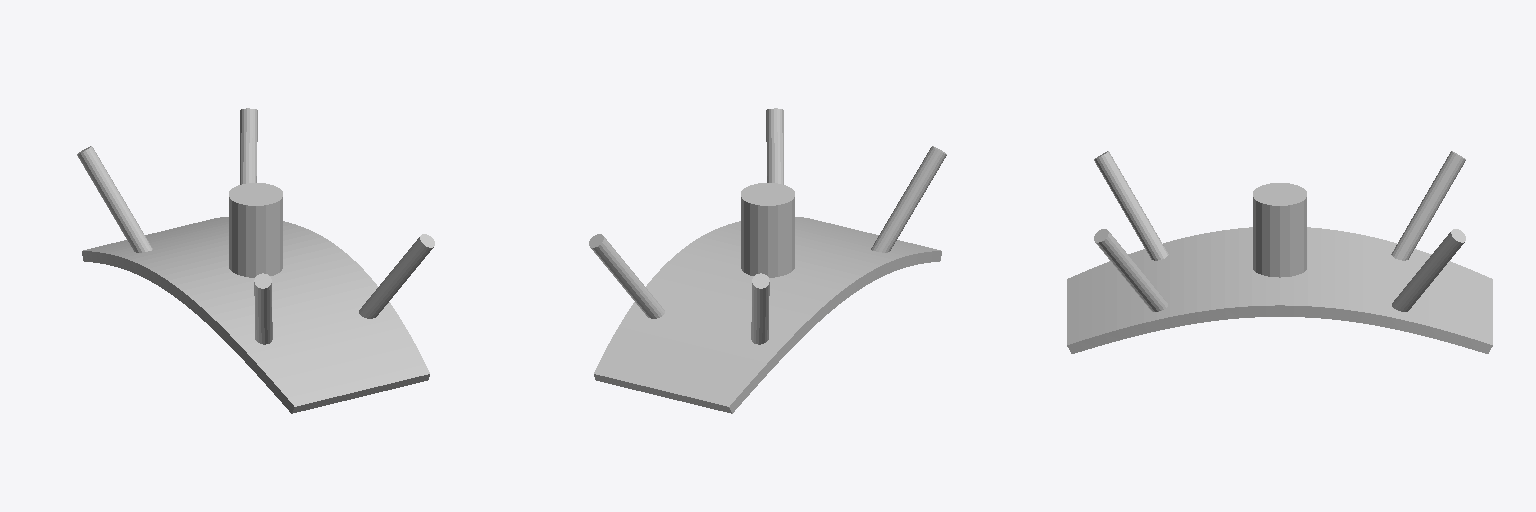
The model's file is stand.obj.
3 renders of one model, left to right at view 1: azimuth 30°, elevation 25°; view 2: azimuth 150°, elevation 25°; view 3: azimuth 270°, elevation 25°, orthographic.
Visible parts, largest first — view 1: Zylinder001; view 2: Zylinder001; view 3: Zylinder001.
Boxes of the visible parts, x1=… form: Zylinder001: x1=77, y1=108, x2=434, y2=413; Zylinder001: x1=589, y1=108, x2=946, y2=413; Zylinder001: x1=1067, y1=151, x2=1492, y2=353.
Size of the model in its own units: 69.94 by 48.61 by 144.